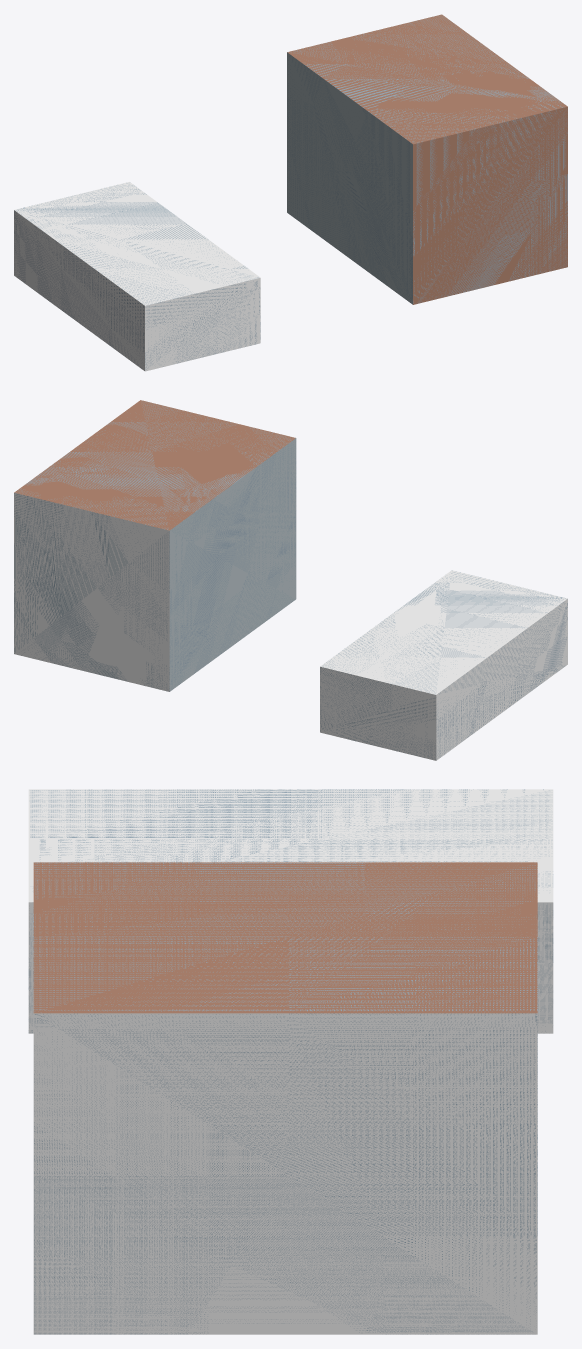
File: testando_ele.dae
3 views of the same model, one above another, from view 1: azimuth 30°, elevation 25°; view 2: azimuth 150°, elevation 25°; view 3: azimuth 270°, elevation 25° (orthographic). The views are drawn at different scales.
Parts seen in each view (by area): view 1: SketchUp (×2), Componente_1; view 2: SketchUp (×3), Componente_1; view 3: SketchUp (×2), Componente_1.
Part boxes in pixels (box(x1,y1,x2,y2)): SketchUp (×2): box(287, 14, 567, 304); Componente_1: box(14, 182, 260, 371); SketchUp (×3): box(14, 400, 296, 691); Componente_1: box(320, 570, 567, 760); SketchUp (×2): box(33, 862, 537, 1334); Componente_1: box(28, 789, 553, 1033).
Size of the model in its own units: 87.06 by 46.61 by 31.5.
